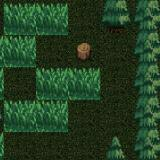Obstacle: (135, 1, 160, 160), (68, 35, 100, 67), (100, 4, 132, 34)
Slow: (36, 68, 101, 100), (4, 100, 68, 132), (4, 3, 68, 34), (0, 35, 36, 66)
